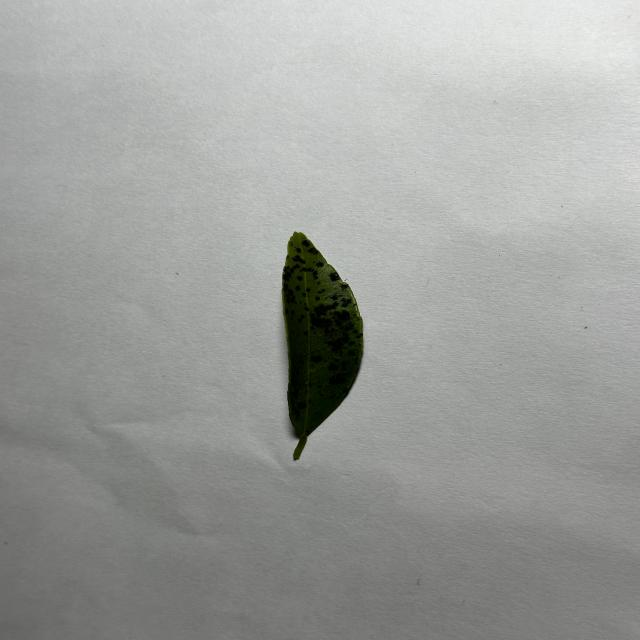sooty_mold: (282, 232, 363, 459)
